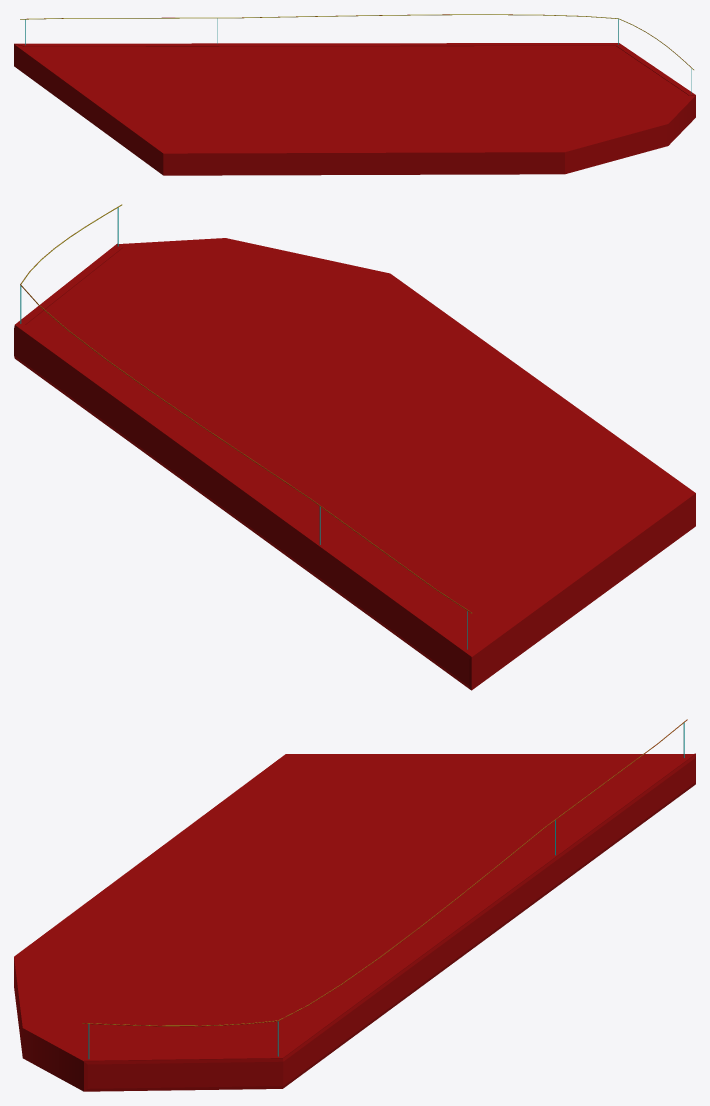
The model's file is Mezzanine LP.FBX.
The picture shows the model from 3 angles, top to bottom: view 1: azimuth 30°, elevation 25°; view 2: azimuth 150°, elevation 25°; view 3: azimuth 270°, elevation 25°; orthographic projection. The views are drawn at different scales.
Parts seen in each view (by area): view 1: Mezzanine_LP; view 2: Mezzanine_LP; view 3: Mezzanine_LP.
Part boxes in pixels (<box>): Mezzanine_LP: <box>14,14,695,175</box>; Mezzanine_LP: <box>14,204,695,690</box>; Mezzanine_LP: <box>14,719,695,1091</box>.
Bounding box in the file's own units: 11211 × 1137 × 10477.
